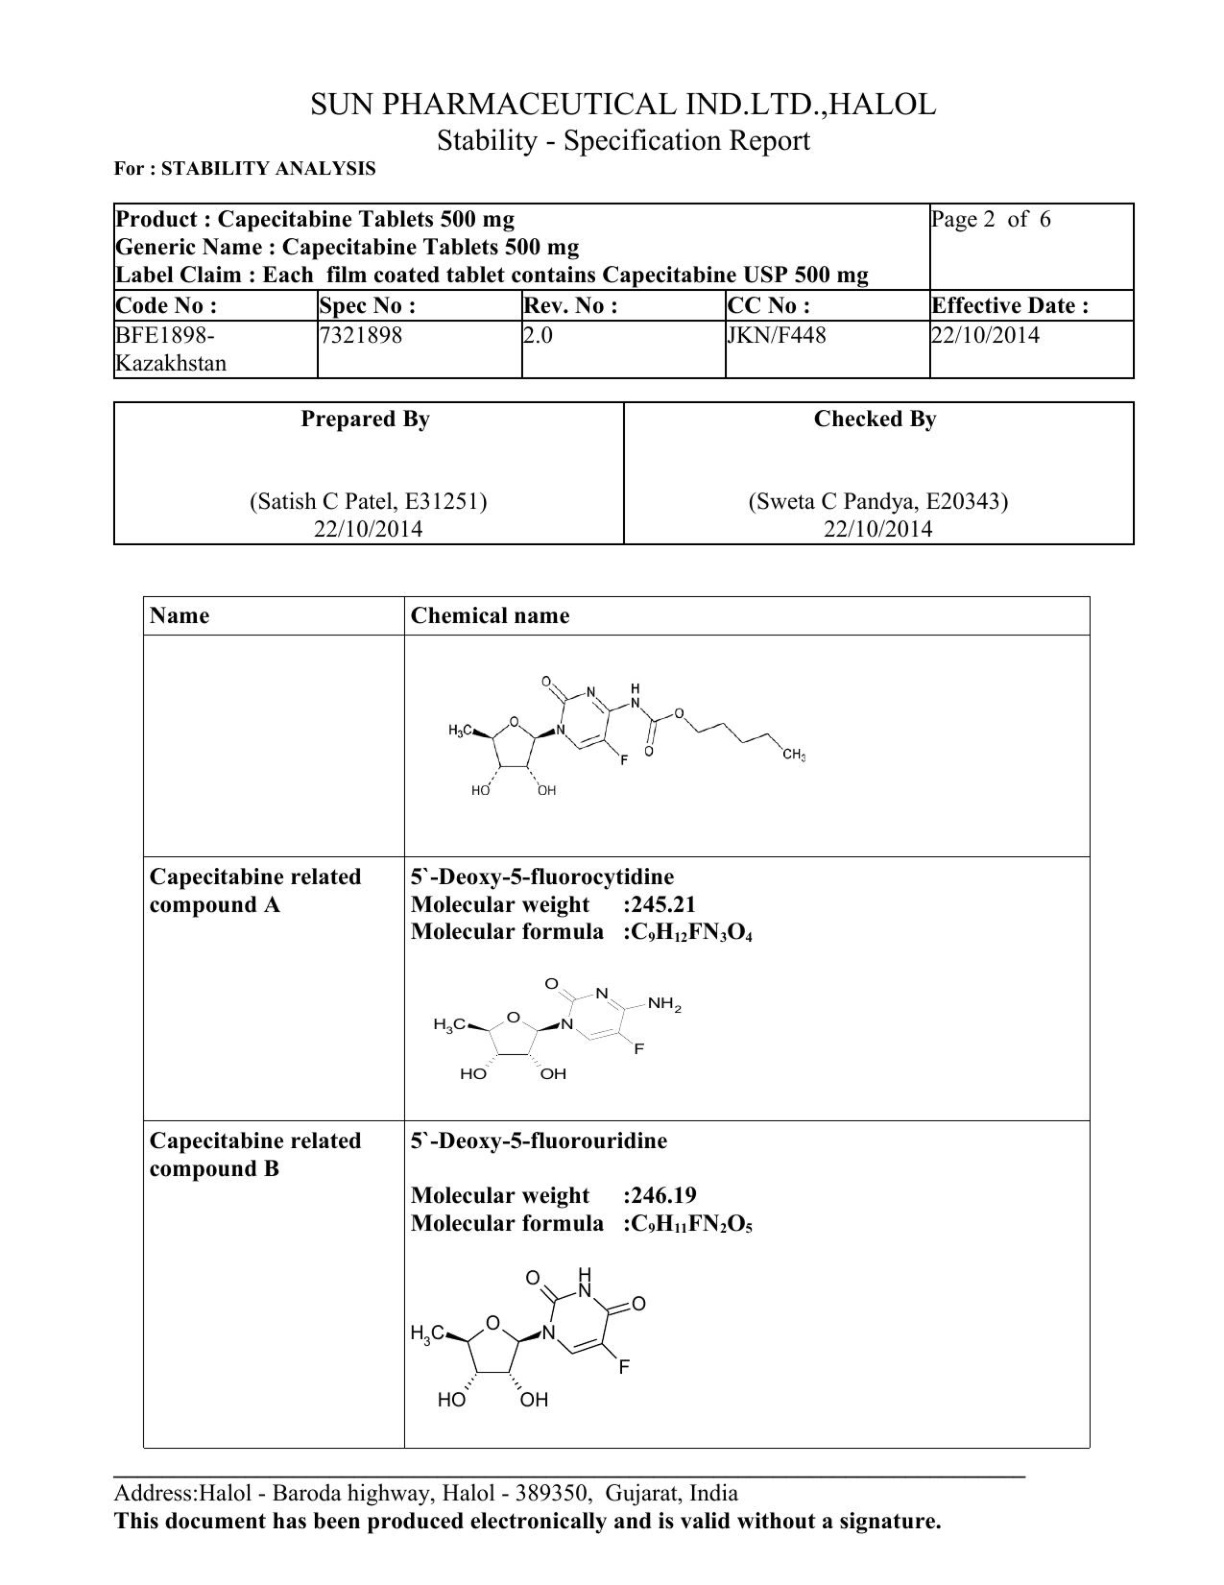full_lined: (141, 594, 1092, 1449)
merged_cells: (112, 201, 1137, 381)
partial_lined: (112, 400, 1135, 545)
